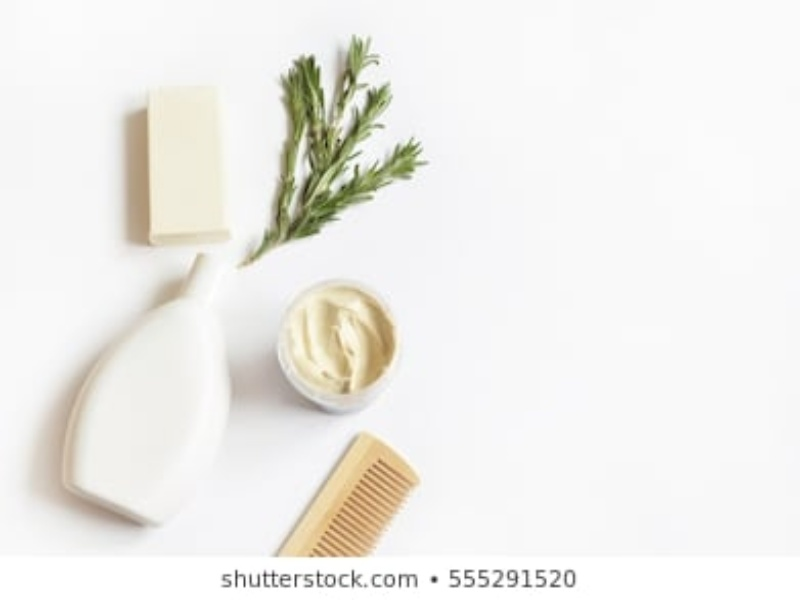shampoo-bottle: (54, 247, 234, 529)
